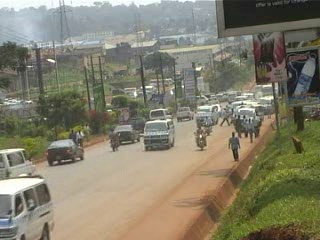Car: (44, 137, 86, 167), (110, 120, 141, 147), (125, 113, 149, 135)
Motorcycle: (190, 129, 211, 152), (108, 132, 122, 153), (200, 120, 214, 137)
